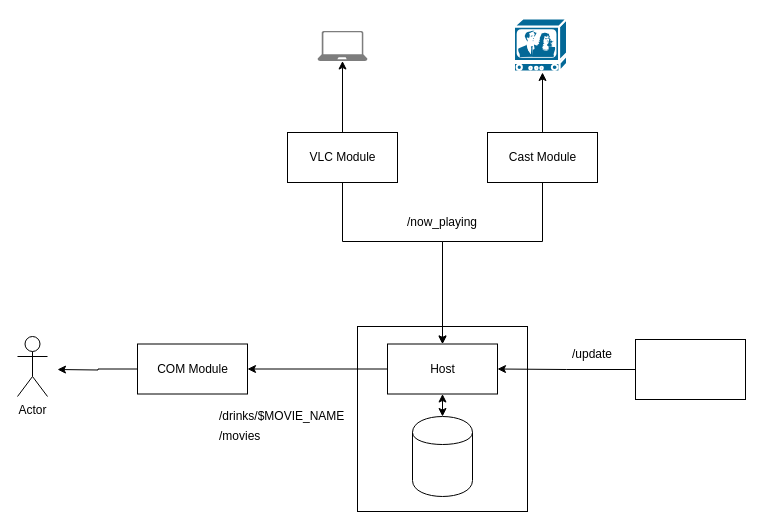
Image size: 763x529. Some labels were removed from this diagram. Here are the shapes that lost their labels. From the top down, the centre of each, then its label:
At (690,369): "Unimportant update method".
At (442,456): "DB".
